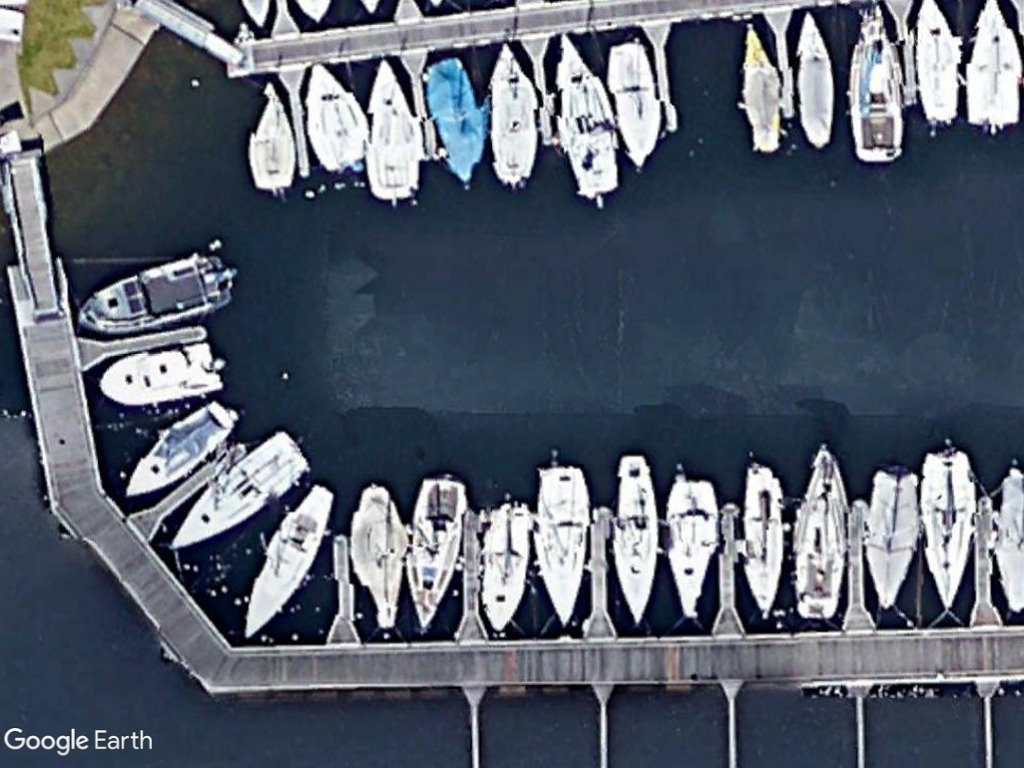boat: (164, 423, 308, 554), (238, 479, 336, 643), (77, 244, 235, 337), (121, 394, 241, 506), (553, 30, 624, 204), (790, 434, 852, 623), (533, 456, 597, 634), (915, 440, 979, 617), (406, 466, 473, 634), (358, 55, 426, 207), (655, 469, 719, 629), (347, 477, 411, 633), (848, 11, 911, 168), (612, 447, 665, 632), (480, 38, 544, 190), (419, 54, 490, 190), (858, 461, 921, 614), (92, 337, 223, 410), (597, 35, 665, 174), (736, 457, 790, 624), (477, 496, 537, 637), (306, 57, 370, 187), (732, 18, 788, 160), (786, 10, 838, 153), (241, 80, 298, 197)
